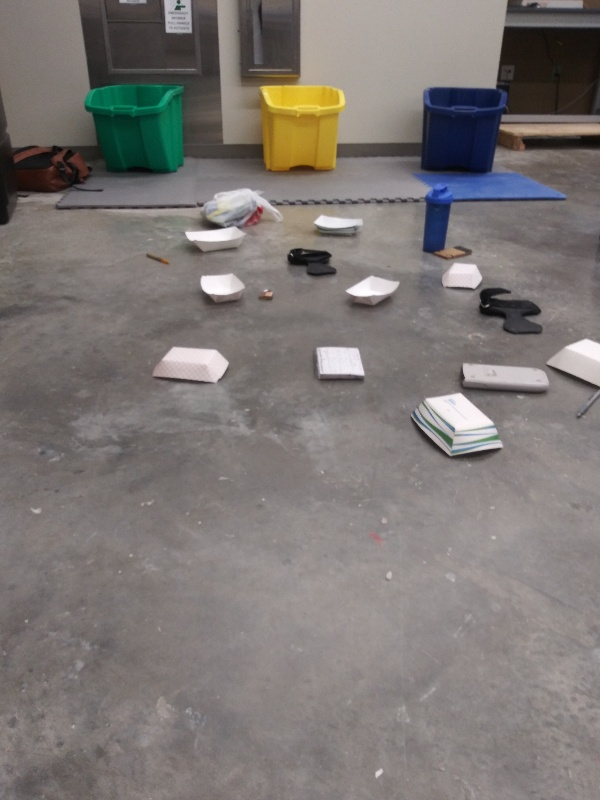plate: (405, 390, 512, 461), (147, 344, 232, 387), (542, 335, 600, 395), (181, 221, 256, 256), (343, 273, 403, 310), (196, 271, 251, 310), (438, 259, 487, 296), (309, 211, 369, 241)
